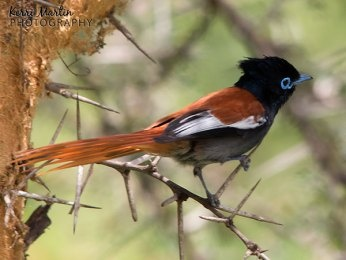bird: (13, 52, 316, 211)
